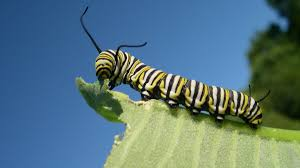Caterpillar: (78, 6, 270, 133)
